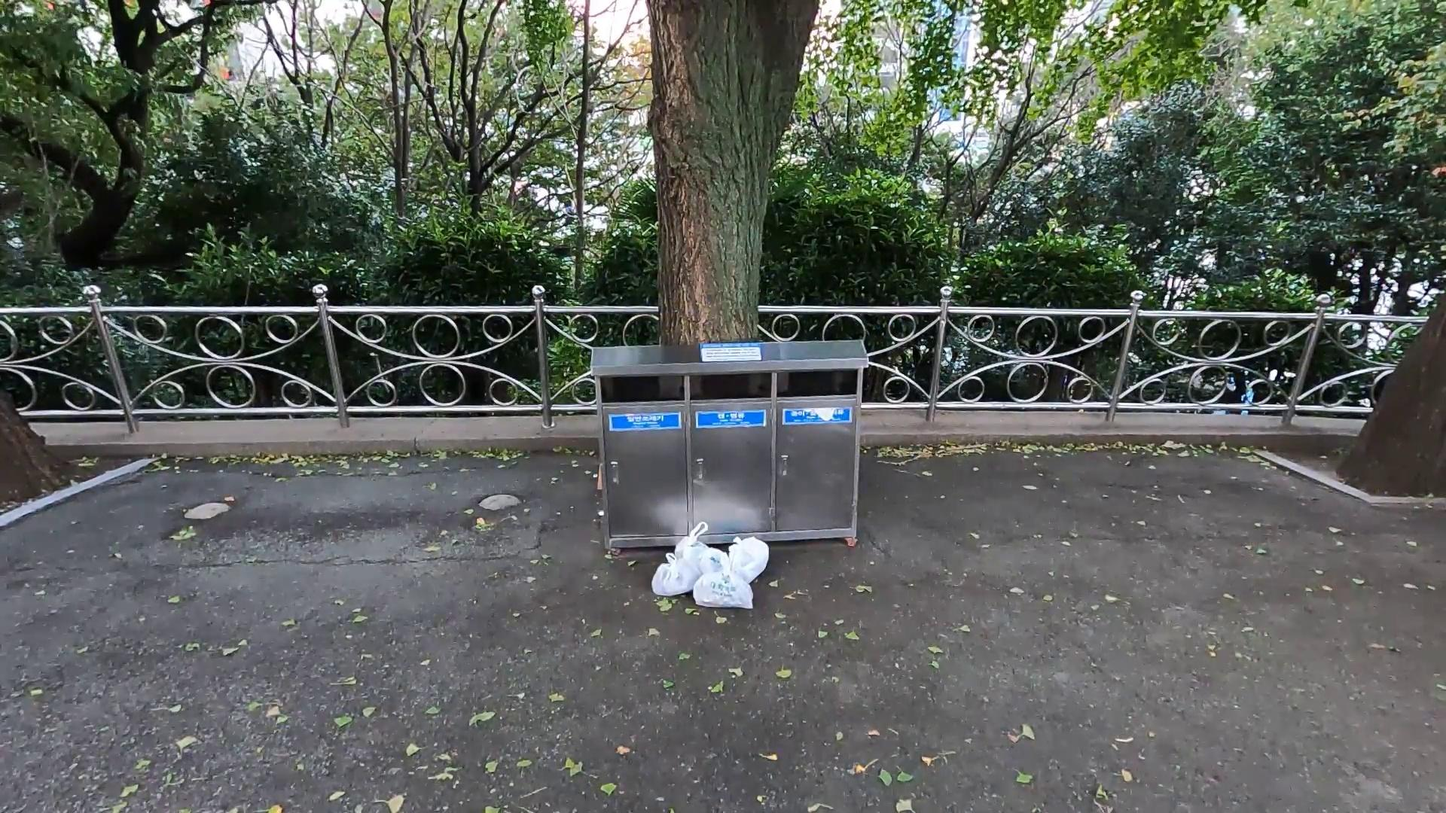trash: (688, 552, 759, 616), (667, 522, 730, 587), (713, 530, 774, 588), (650, 549, 704, 598)
